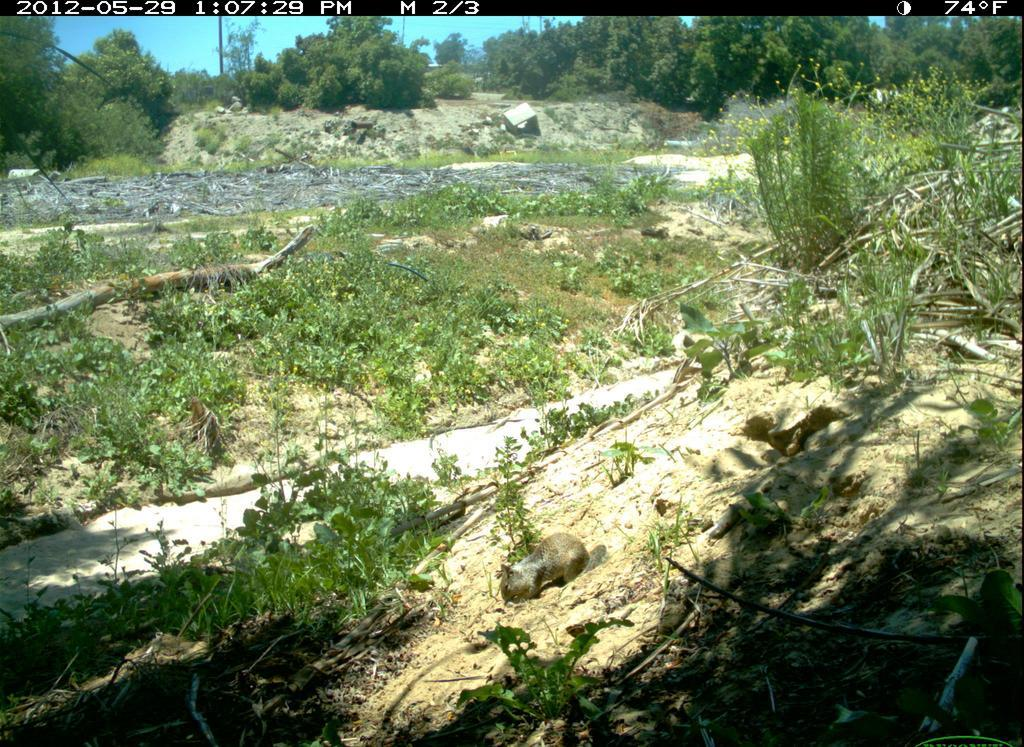squirrel: (498, 523, 614, 605)
